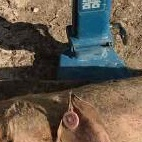text: (55, 104, 86, 135)
